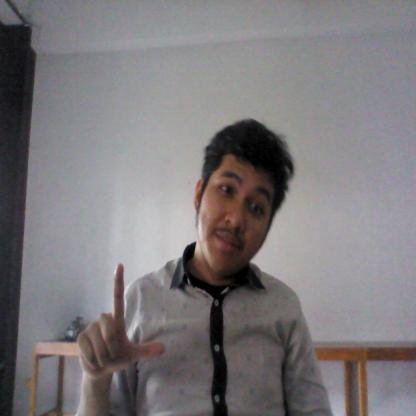L: (65, 258, 169, 388)
